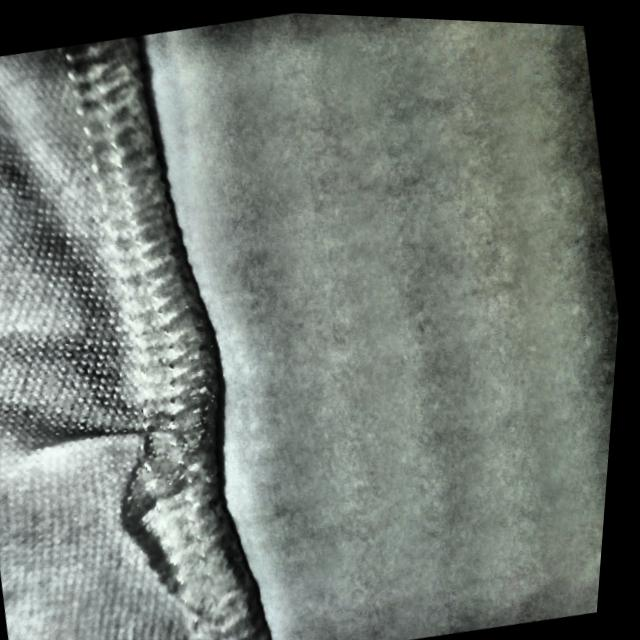seam: (26, 355, 264, 617)
